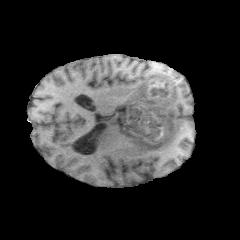glioma: (114, 71, 180, 152)
